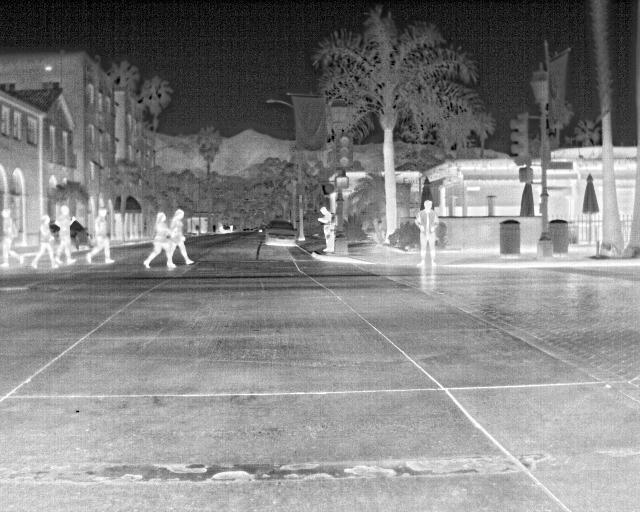bicycle: (262, 218, 300, 250)
empty: (140, 209, 177, 271), (411, 199, 441, 266), (85, 205, 117, 265), (28, 213, 61, 271), (165, 207, 195, 265), (53, 203, 80, 264), (0, 209, 27, 269), (317, 205, 337, 256)
